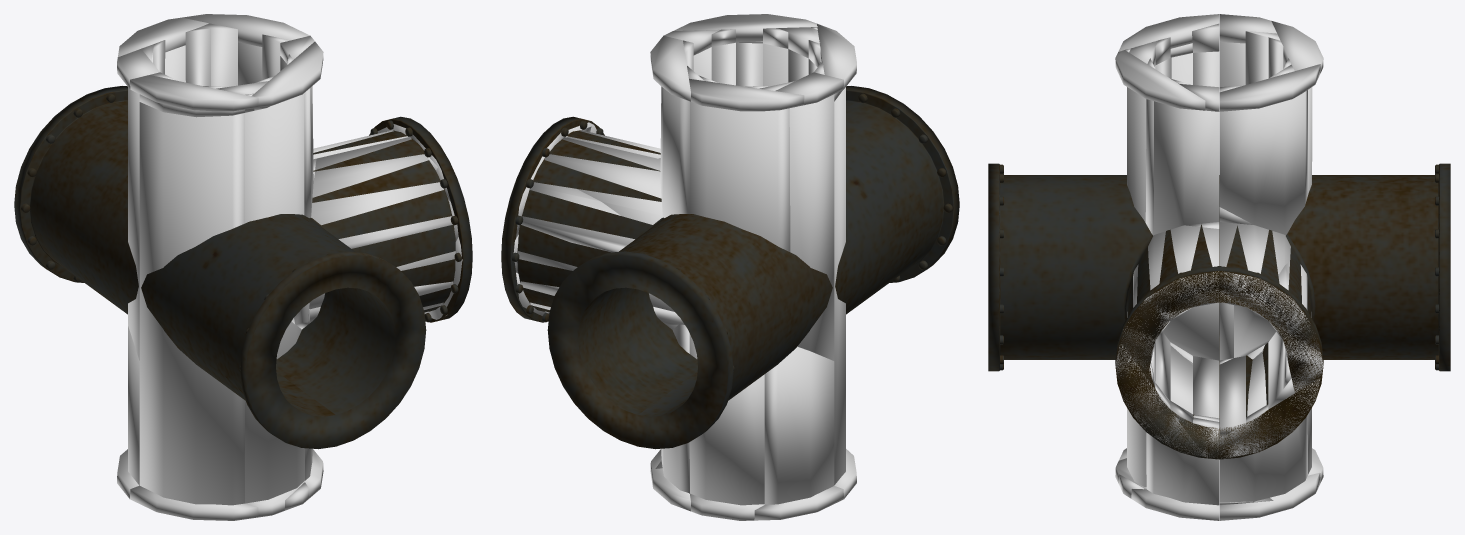
The model's file is SM_Pipes_Small_3_Directions.fbx.
The picture shows the model from 3 angles, left to right: view 1: azimuth 30°, elevation 25°; view 2: azimuth 150°, elevation 25°; view 3: azimuth 270°, elevation 25°; orthographic projection.
Parts seen in each view (by area): view 1: SM_Pipes_Small_3_Directions, SM_Pipes_Small_3_Directions_ConvexHulls; view 2: SM_Pipes_Small_3_Directions_ConvexHulls, SM_Pipes_Small_3_Directions; view 3: SM_Pipes_Small_3_Directions_ConvexHulls, SM_Pipes_Small_3_Directions.
Boxes of the visible parts, x1=… form: SM_Pipes_Small_3_Directions: x1=14, y1=86, x2=472, y2=449; SM_Pipes_Small_3_Directions_ConvexHulls: x1=117, y1=14, x2=462, y2=520; SM_Pipes_Small_3_Directions_ConvexHulls: x1=513, y1=14, x2=856, y2=520; SM_Pipes_Small_3_Directions: x1=501, y1=86, x2=959, y2=449; SM_Pipes_Small_3_Directions_ConvexHulls: x1=1115, y1=14, x2=1323, y2=520; SM_Pipes_Small_3_Directions: x1=988, y1=163, x2=1450, y2=459.
Size of the model in its own units: 0.363 by 0.5 by 0.5.
